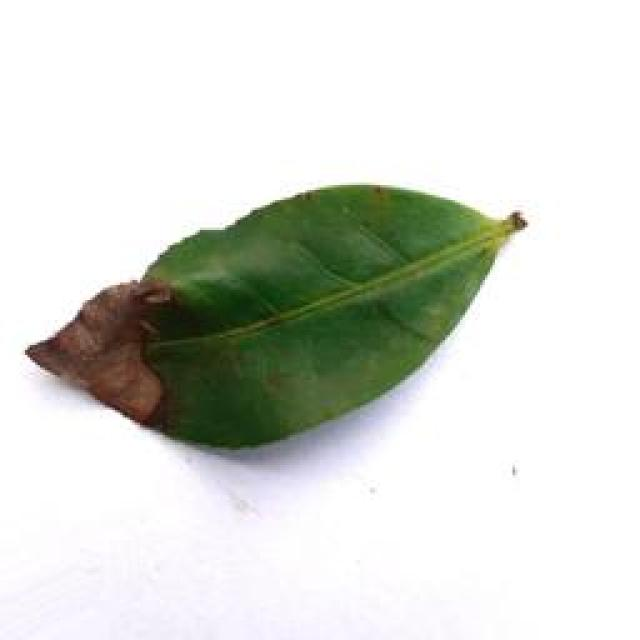Brown Blight: (43, 154, 528, 462)
